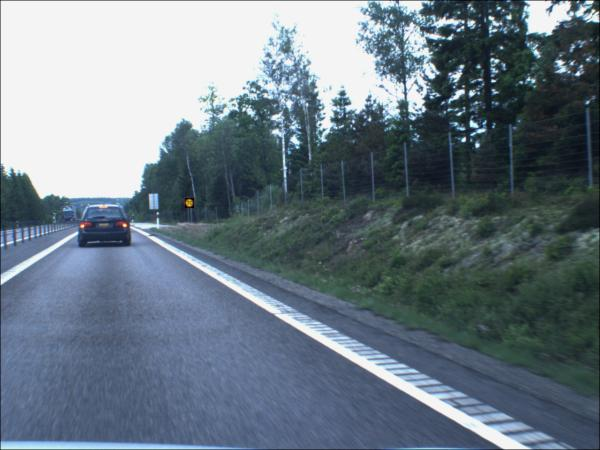70_SIGN: (186, 199, 196, 210)
